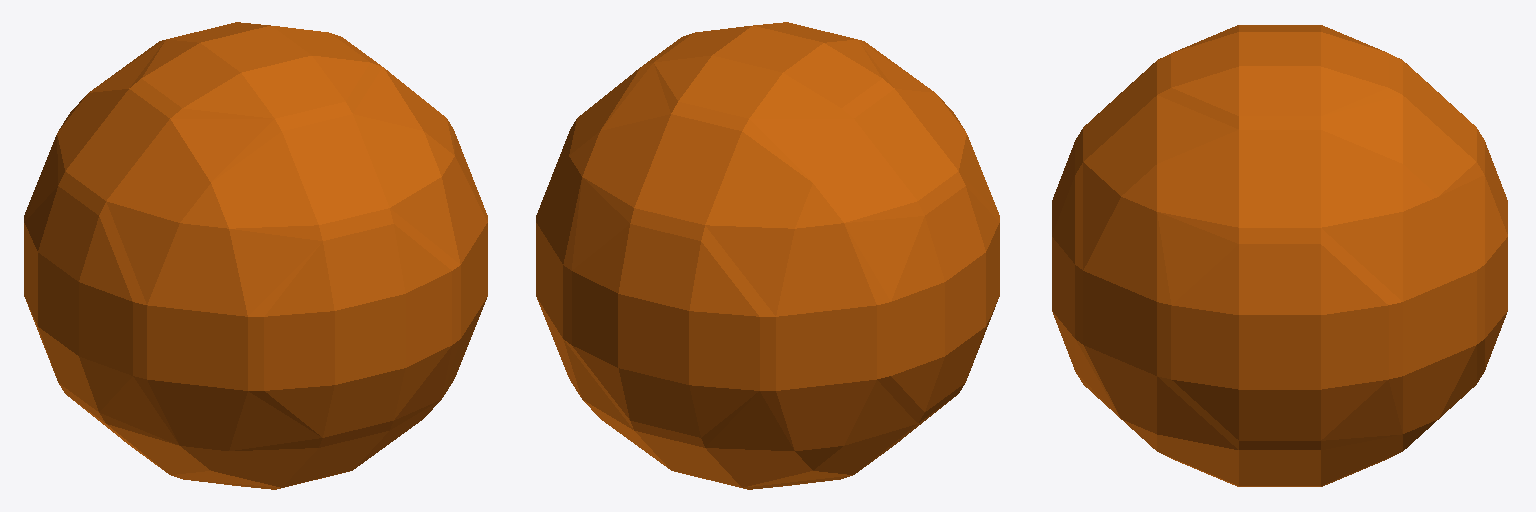
3 views of the same model, side by side, from view 1: azimuth 30°, elevation 25°; view 2: azimuth 150°, elevation 25°; view 3: azimuth 270°, elevation 25° (orthographic).
Visible parts, largest first — view 1: Mball.001; view 2: Mball.001; view 3: Mball.001.
Boxes of the visible parts, x1,y1,x2,y2 form: Mball.001: [24, 22, 487, 489]; Mball.001: [536, 22, 999, 489]; Mball.001: [1052, 25, 1507, 486].
Size of the model in its own units: 2.23 by 2.23 by 2.23.